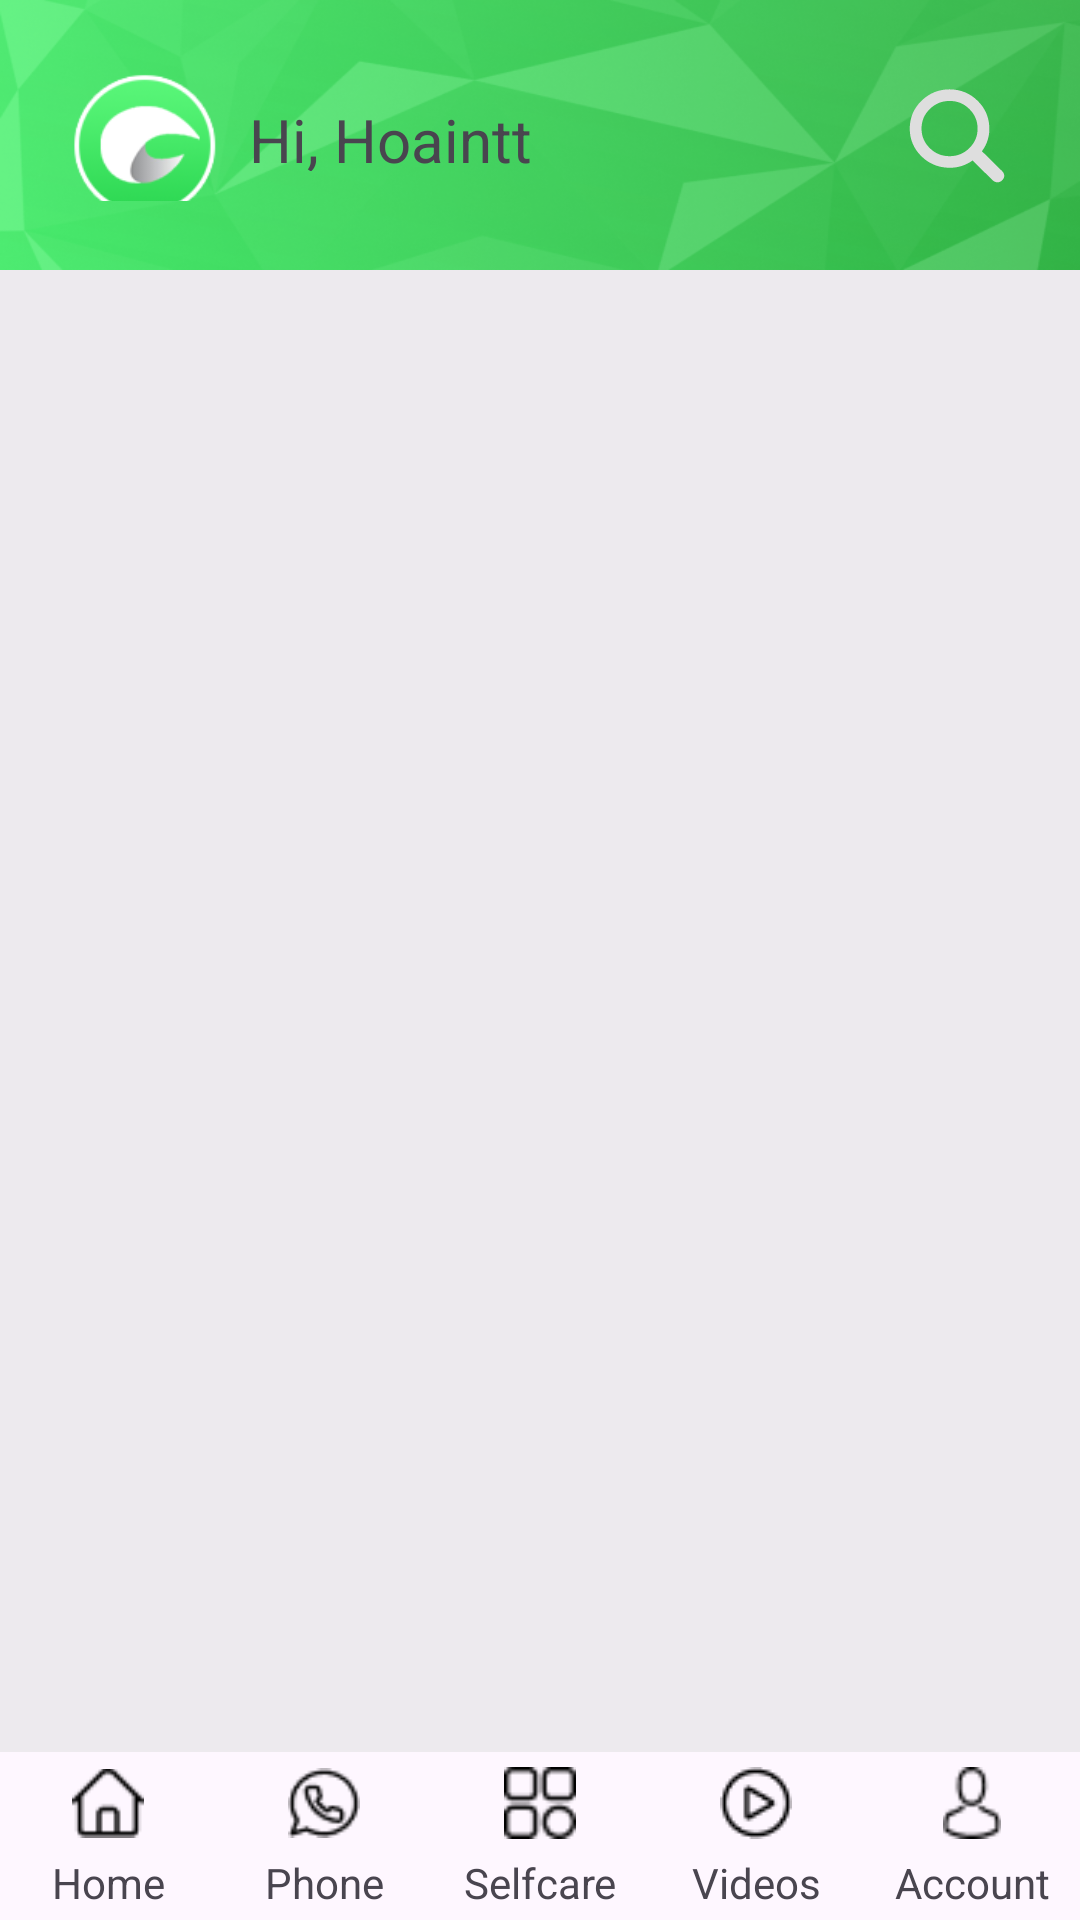

Where icons sit on this 1080px×1920px app screen, as (x1, y1, x2, y2):
search: (909, 89, 1005, 183)
